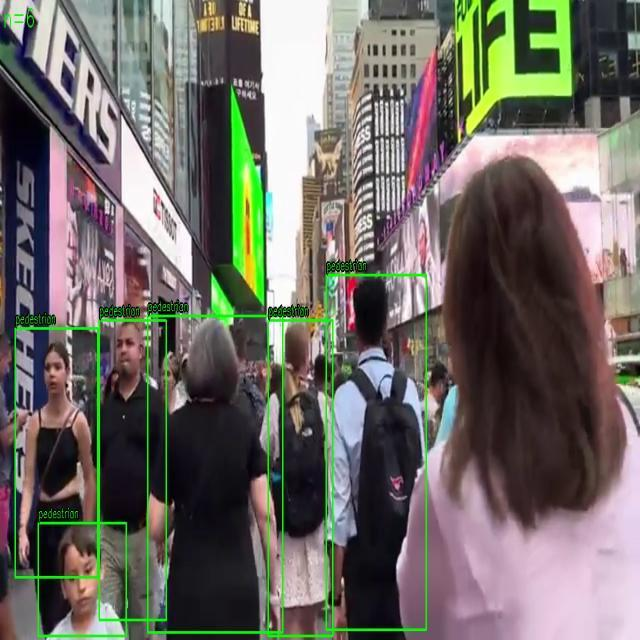person: (147, 315, 283, 633), (326, 274, 426, 630), (15, 328, 98, 578), (268, 319, 333, 636), (99, 320, 167, 620), (37, 522, 126, 636)
